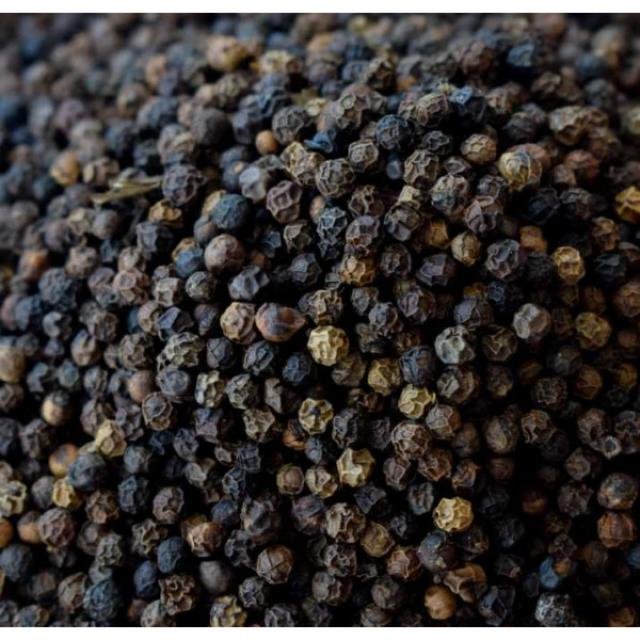Black pepper: (14, 27, 617, 615)
